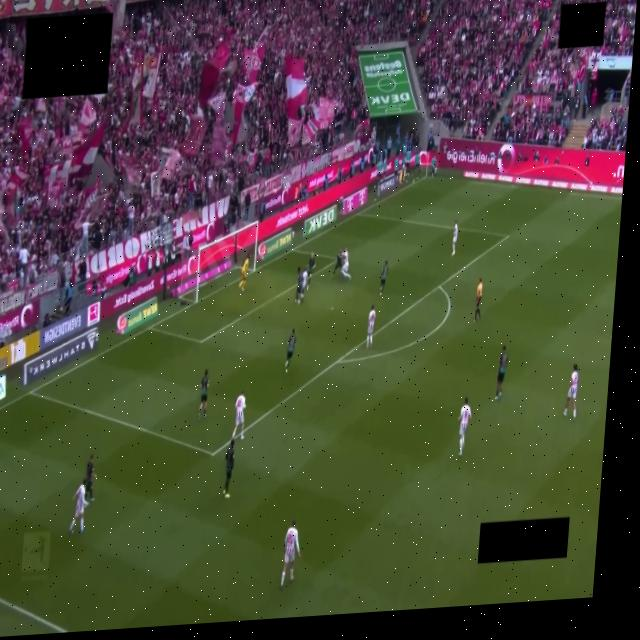player: (280, 521, 299, 587), (69, 479, 86, 533), (563, 365, 577, 419), (458, 398, 470, 455), (224, 436, 235, 497), (231, 392, 245, 439), (495, 347, 507, 400), (198, 369, 208, 417), (284, 330, 295, 372), (85, 455, 95, 501), (365, 305, 375, 349), (239, 254, 249, 291), (306, 253, 315, 289), (294, 267, 302, 304), (341, 248, 350, 279), (379, 261, 387, 294), (332, 250, 342, 276), (300, 269, 307, 300), (451, 222, 457, 255)
referee: (473, 278, 482, 322)
